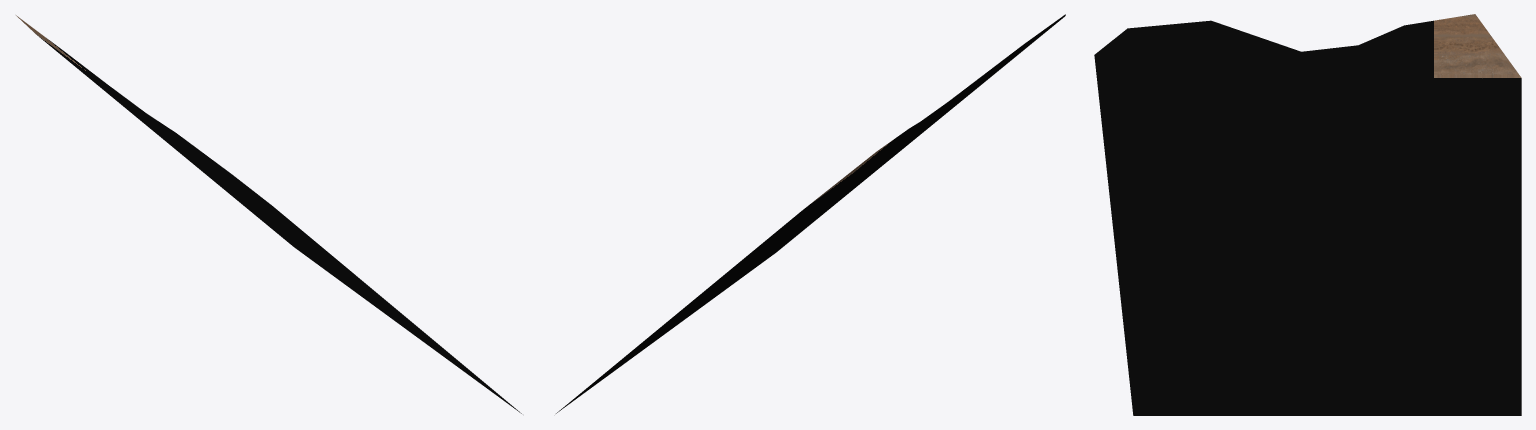
The model's file is SM_Terrain_Road_Hills_Asphalt_Soil_06_ATLAS.fbx.
3 views of the same model, side by side, from view 1: azimuth 30°, elevation 25°; view 2: azimuth 150°, elevation 25°; view 3: azimuth 270°, elevation 25° (orthographic). The views are drawn at different scales.
Parts seen in each view (by area): view 1: SM_Terrain_Road_Hills_Asphalt_Soil_06_ATLAS_LOD0; view 2: SM_Terrain_Road_Hills_Asphalt_Soil_06_ATLAS_LOD0; view 3: SM_Terrain_Road_Hills_Asphalt_Soil_06_ATLAS_LOD0.
Boxes of the visible parts, <box> form: SM_Terrain_Road_Hills_Asphalt_Soil_06_ATLAS_LOD0: <box>16,15,521,413</box>; SM_Terrain_Road_Hills_Asphalt_Soil_06_ATLAS_LOD0: <box>556,14,1065,413</box>; SM_Terrain_Road_Hills_Asphalt_Soil_06_ATLAS_LOD0: <box>1094,14,1521,415</box>.
Bounding box in the file's own units: 306 × 439 × 313.
